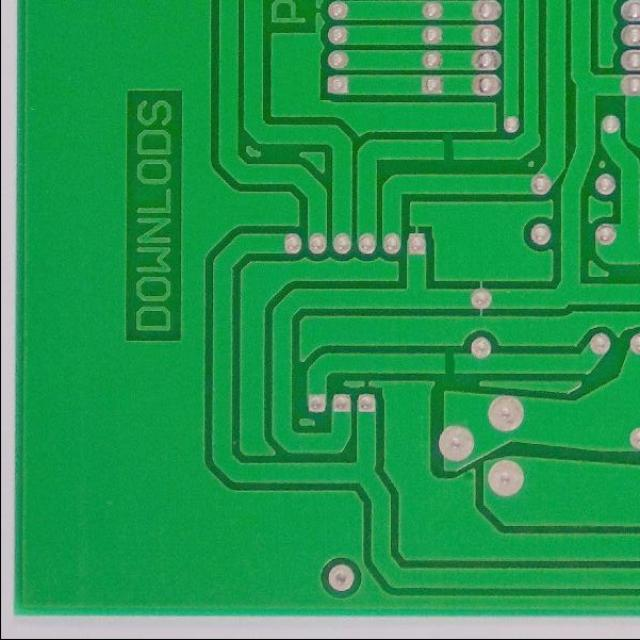Open_Circuit: (432, 122, 464, 177), (434, 338, 464, 388)
